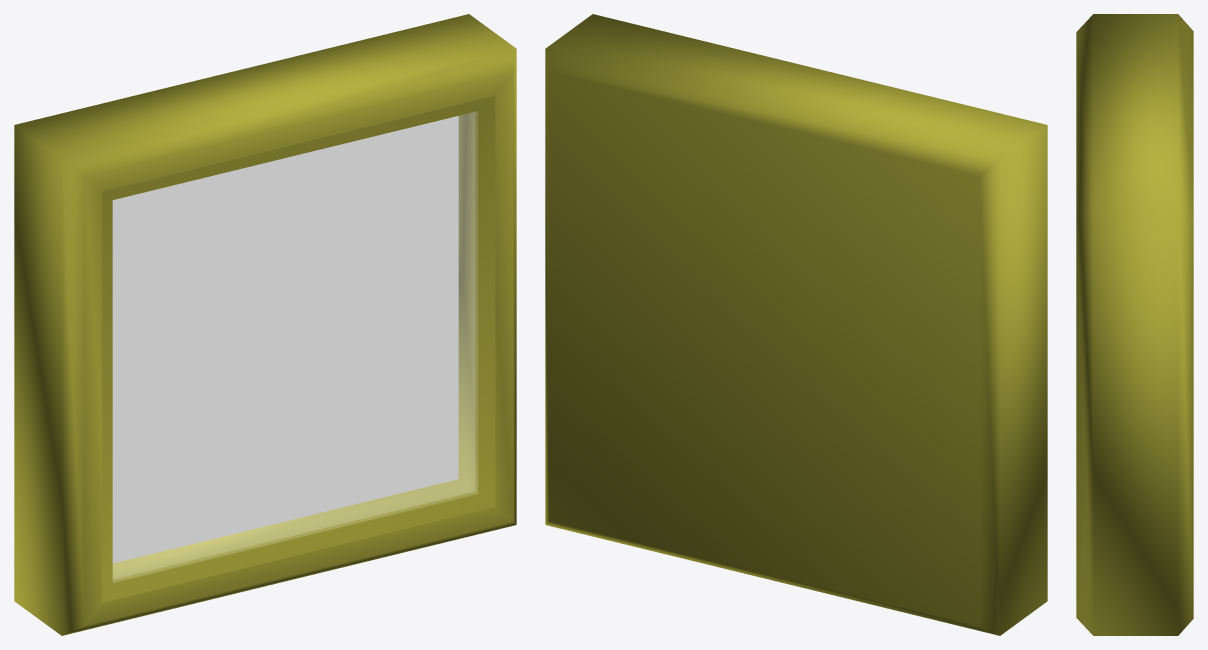
Rendered from Frame_test_yellow.fbx.
3 views of the same model, side by side, from view 1: azimuth 30°, elevation 25°; view 2: azimuth 150°, elevation 25°; view 3: azimuth 270°, elevation 25° (orthographic). The views are drawn at different scales.
Parts seen in each view (by area): view 1: Frame_glass, Frame, Frame.001; view 2: Frame; view 3: Frame.
Part boxes in pixels (x1=…): Frame_glass: x1=113, y1=112, x2=477, y2=581; Frame: x1=14, y1=14, x2=516, y2=635; Frame.001: x1=112, y1=116, x2=458, y2=563; Frame: x1=545, y1=14, x2=1047, y2=635; Frame: x1=1076, y1=14, x2=1193, y2=635.
Bounding box in the file's own units: 40 × 40 × 10.
